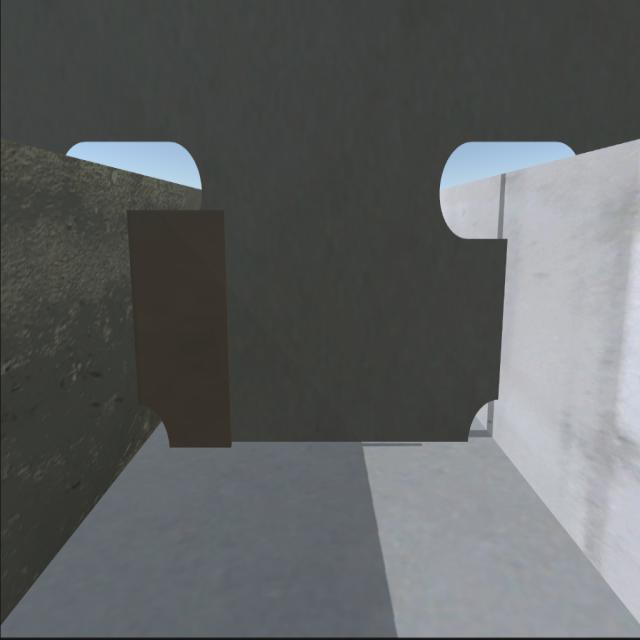fillet_hole: (142, 410, 174, 448), (467, 409, 502, 439)
fillet_yong_jeop_jang: (172, 444, 474, 449)
longi_yong_jeop_jang: (128, 214, 146, 408), (497, 241, 511, 397)
plate_CP01: (143, 209, 225, 446)
